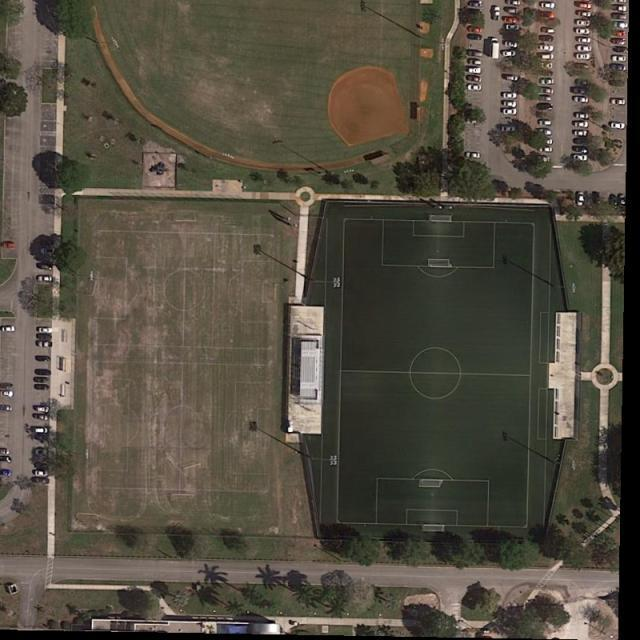vehicle: (490, 37, 500, 59), (610, 4, 629, 13), (466, 74, 483, 84), (610, 194, 620, 210), (32, 413, 49, 422), (537, 44, 554, 53), (538, 86, 555, 95), (537, 103, 554, 112), (612, 62, 627, 72), (574, 62, 590, 71), (611, 55, 627, 64), (539, 69, 555, 78), (33, 476, 50, 484), (33, 406, 50, 414), (467, 26, 484, 34), (572, 87, 589, 95), (612, 13, 629, 21), (539, 11, 556, 19), (537, 53, 554, 61), (535, 129, 552, 137), (468, 49, 483, 58), (611, 37, 626, 46), (613, 45, 628, 54), (593, 191, 602, 206), (2, 241, 18, 249), (38, 263, 54, 271), (573, 138, 589, 146), (573, 146, 589, 154), (613, 21, 629, 29), (610, 98, 626, 106), (465, 151, 481, 159), (36, 341, 54, 348), (612, 29, 626, 38), (468, 58, 482, 67), (34, 376, 49, 384), (574, 96, 589, 104), (573, 130, 588, 138), (574, 154, 589, 162), (577, 2, 592, 10), (610, 122, 625, 130), (503, 92, 518, 100), (538, 62, 553, 70), (539, 146, 554, 154), (34, 368, 51, 375), (467, 34, 484, 41), (574, 80, 593, 86), (37, 275, 53, 282), (34, 462, 48, 470), (577, 53, 591, 61), (502, 50, 516, 58), (577, 193, 585, 207), (468, 84, 482, 92), (41, 247, 56, 254), (36, 355, 51, 362), (468, 1, 483, 8), (506, 24, 521, 31), (467, 67, 482, 74), (542, 2, 557, 9), (540, 27, 555, 34), (539, 35, 554, 42), (539, 139, 554, 146), (536, 156, 551, 163), (1, 390, 14, 398), (1, 469, 14, 477), (34, 434, 47, 442), (505, 40, 518, 48), (504, 108, 517, 116), (33, 384, 50, 390), (2, 326, 16, 333), (34, 470, 48, 477), (38, 327, 52, 334), (577, 11, 591, 18), (578, 45, 592, 52), (502, 126, 516, 133), (494, 7, 501, 21), (541, 78, 555, 85), (609, 81, 625, 87), (35, 334, 51, 340), (502, 102, 518, 108), (620, 194, 626, 210), (577, 37, 590, 44), (504, 17, 517, 24), (33, 427, 48, 433), (576, 20, 591, 26), (574, 122, 589, 128), (538, 120, 553, 126), (35, 449, 46, 457), (576, 28, 590, 34), (575, 113, 589, 119), (506, 75, 520, 81), (466, 118, 479, 124), (1, 405, 12, 412), (506, 1, 521, 6), (537, 97, 552, 102), (507, 9, 521, 14), (1, 455, 10, 462), (1, 449, 10, 455), (613, 1, 627, 4), (577, 1, 590, 2)
